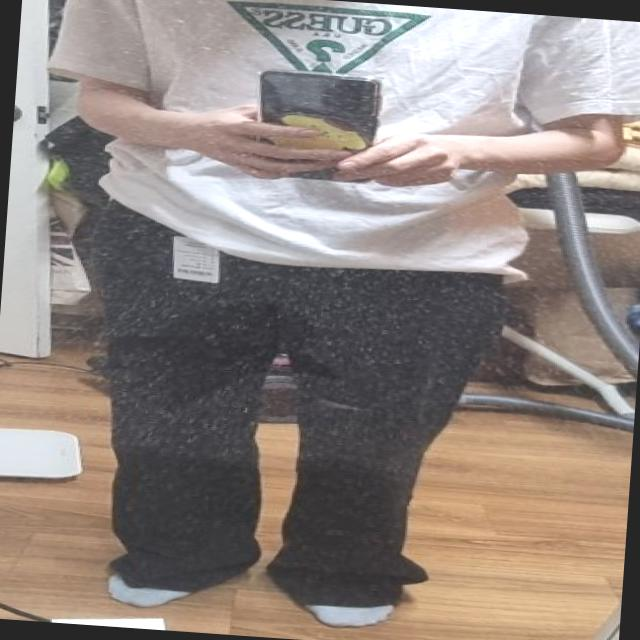denimpants: (65, 196, 514, 615)
shortsleeve: (42, 0, 640, 290)
